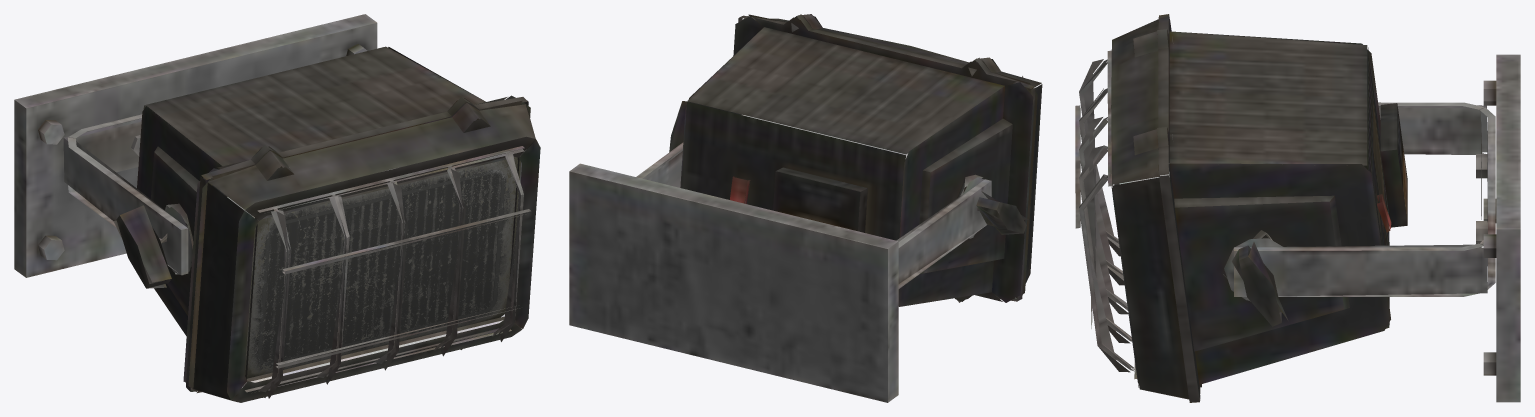
Rendered from flood_head.glb.
3 renders of one model, left to right at view 1: azimuth 30°, elevation 25°; view 2: azimuth 150°, elevation 25°; view 3: azimuth 270°, elevation 25°, orthographic. The views are drawn at different scales.
Parts seen in each view (by area): view 1: flood_lights_wall_base; view 2: flood_lights_wall_base; view 3: flood_lights_wall_base.
Part boxes in pixels (x1,y1,x2,y2): flood_lights_wall_base: (14, 14, 540, 402); flood_lights_wall_base: (569, 14, 1042, 402); flood_lights_wall_base: (1075, 14, 1520, 402).
Bounding box in the file's own units: 0.2734 × 0.1813 × 0.2799.
2 materials, 2 textured.
